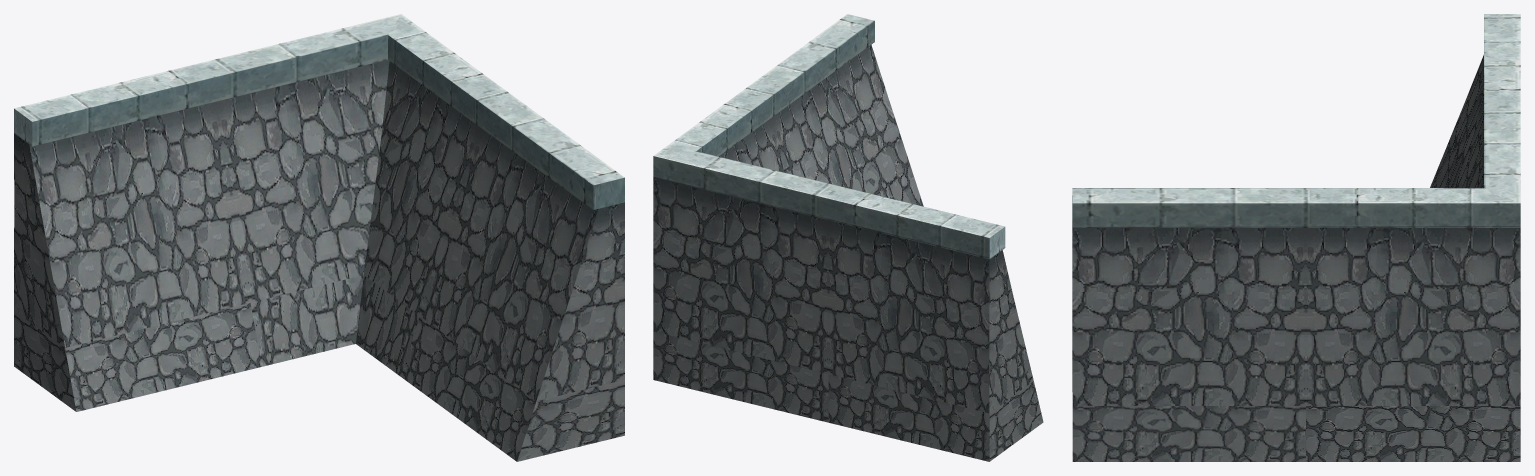
3 views of the same model, side by side, from view 1: azimuth 30°, elevation 25°; view 2: azimuth 150°, elevation 25°; view 3: azimuth 270°, elevation 25° (orthographic). The views are drawn at different scales.
Visible parts, largest first — view 1: geom_node_0; view 2: geom_node_0; view 3: geom_node_0.
Part boxes in pixels (x1=…): geom_node_0: x1=14, y1=14, x2=624, y2=461; geom_node_0: x1=653, y1=14, x2=1043, y2=461; geom_node_0: x1=1072, y1=14, x2=1520, y2=461.
Bounding box in the file's own units: 7 × 4.46 × 7.
Materials: 1 (1 with a texture image).
